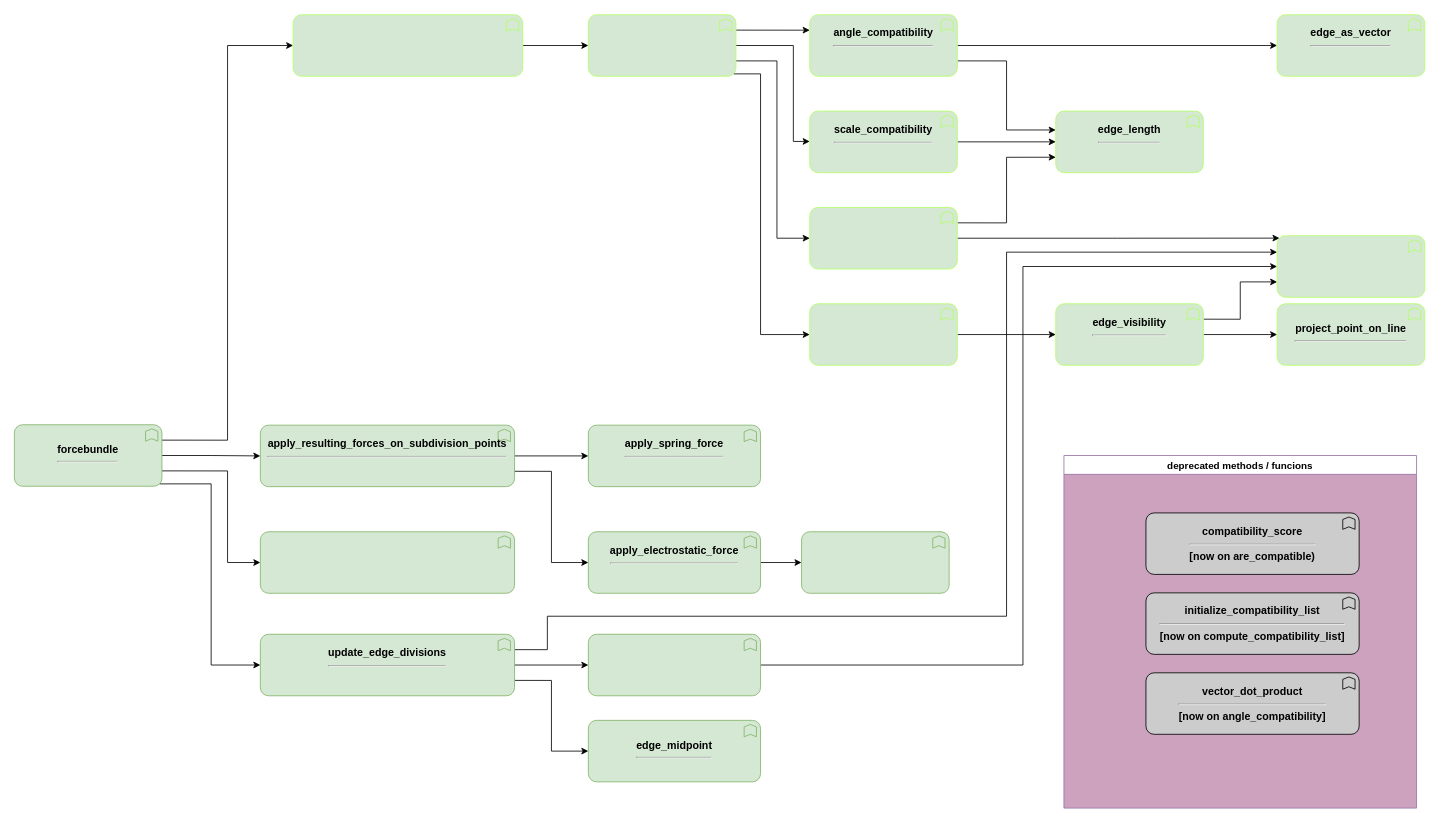
Image size: 1439x822. Some labels were removed from this diagram. Each missing label, with the centre of its shape:
"are_compatible" goes at [662,45].
"compute_compatibility_list" goes at [407,45].
"compute_divided_edge_length" goes at [674,664].
"custom_edge_length" goes at [875,562].
"euclidean_distance" goes at [1350,266].
"initialize_edge_subdivisions" goes at [387,562].
"position_compatibility" goes at [883,238].
"visibility_compatibility" goes at [883,334].
